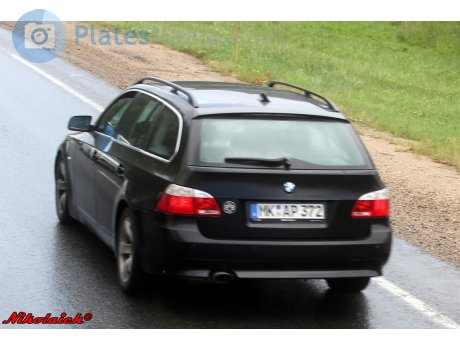License Plates: (253, 201, 323, 219)
